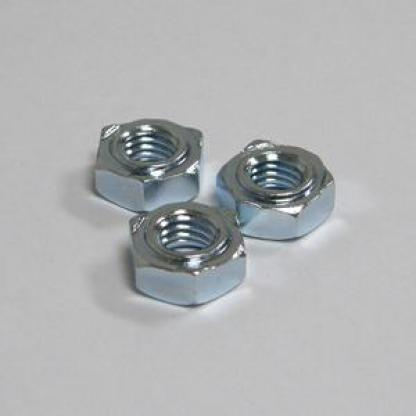FOD: (123, 195, 250, 308), (215, 134, 340, 247), (89, 116, 208, 215)
